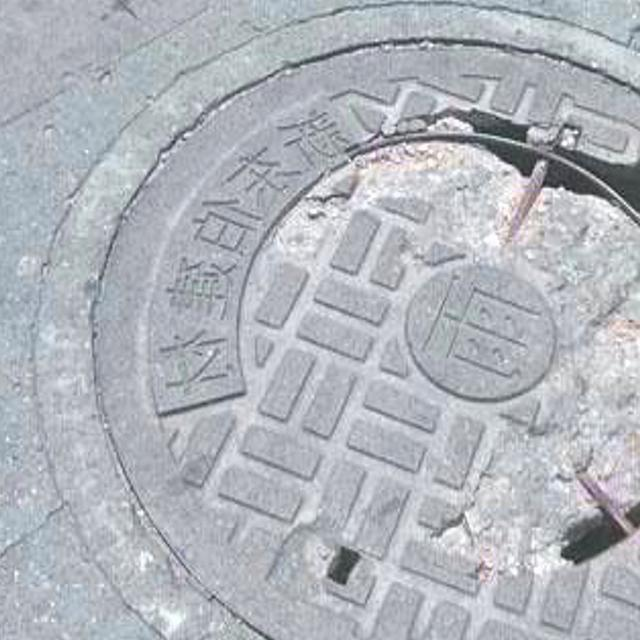broke: (57, 12, 640, 640)
